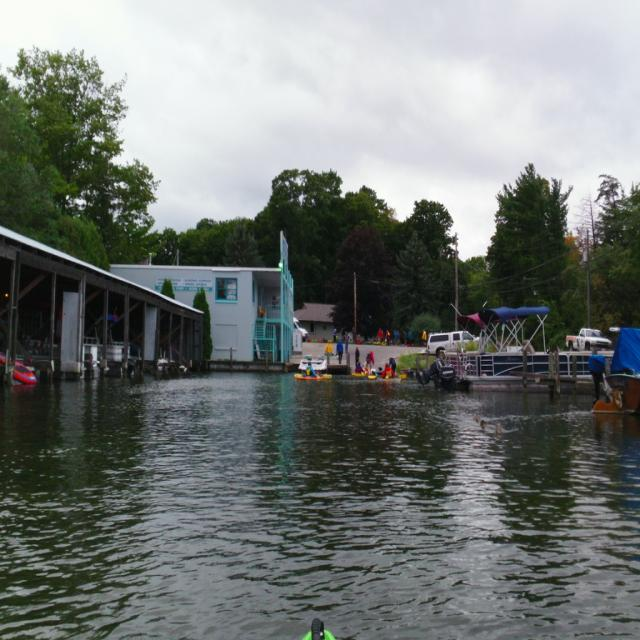Boat: (590, 322, 640, 415), (0, 350, 41, 385), (293, 369, 335, 383), (379, 370, 408, 388), (349, 363, 369, 378), (365, 370, 379, 383)
